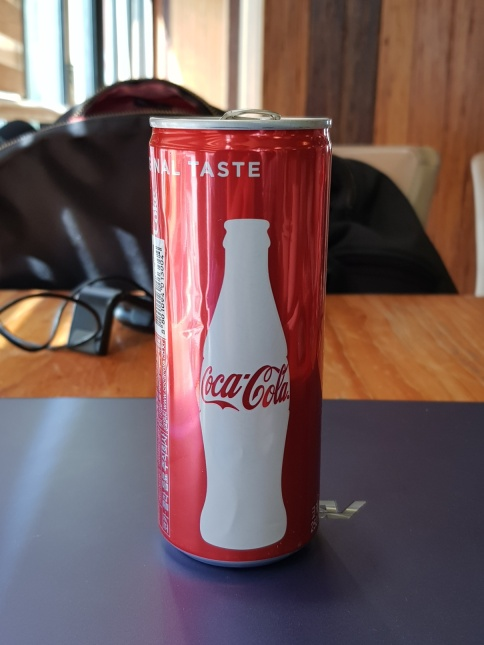Can: (140, 107, 324, 566)
